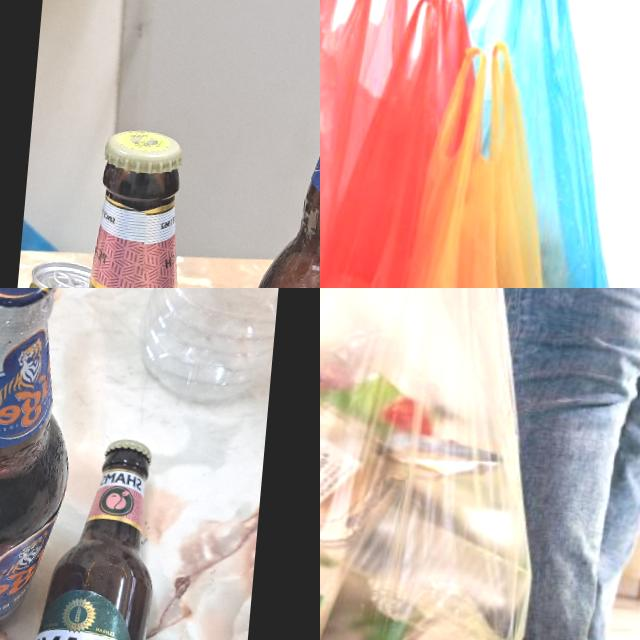aba de lata: (47, 267, 90, 288)
garrafa de vidro: (3, 431, 160, 640), (0, 288, 86, 640), (216, 0, 320, 288), (39, 125, 217, 288)
garrafa plástica: (136, 288, 282, 408)
lata: (23, 258, 91, 288)
sacola plástica: (320, 288, 564, 640), (437, 0, 640, 288), (320, 0, 489, 288), (393, 50, 581, 288), (320, 0, 442, 288)
